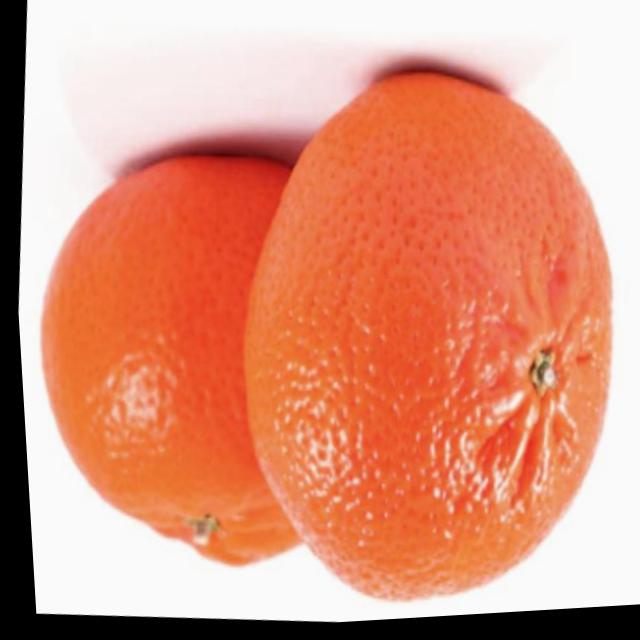Orange: (201, 50, 640, 631), (7, 135, 333, 586)
